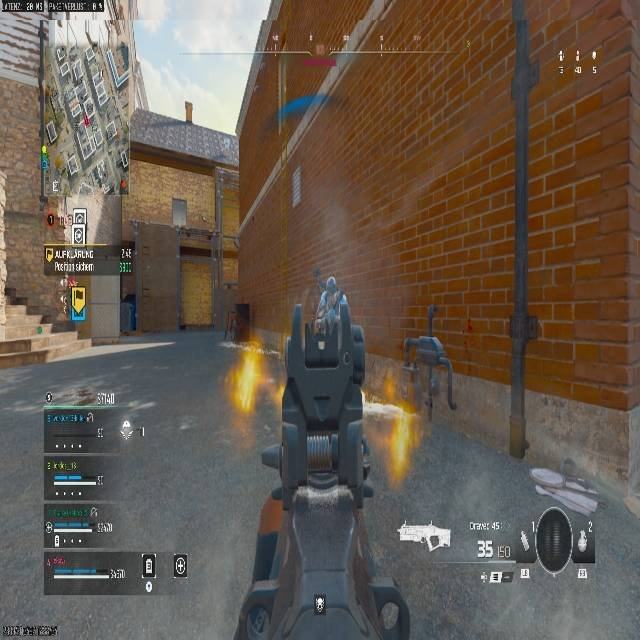player: (398, 333, 453, 431)
